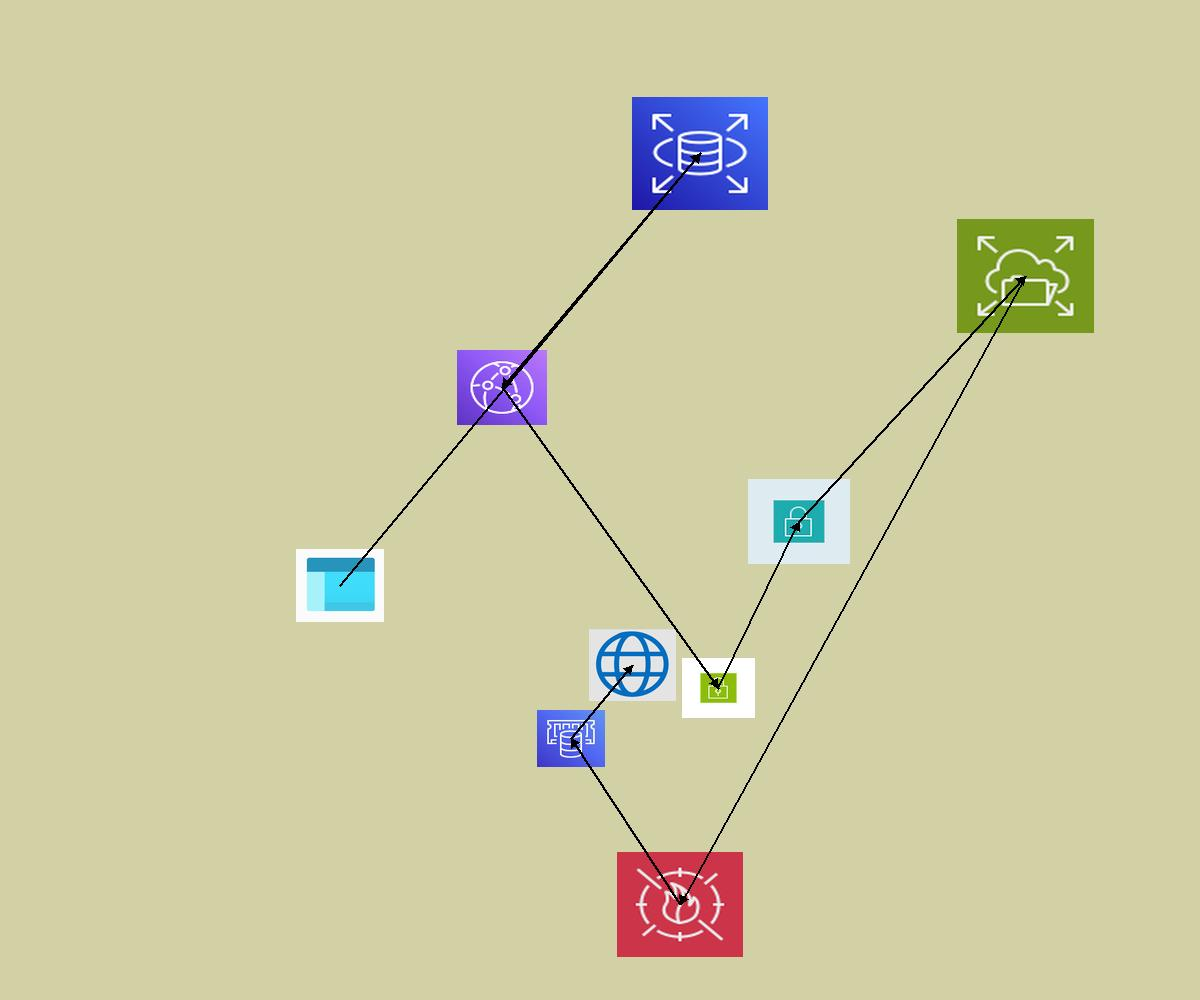AWS-CloudFront: (457, 350, 547, 425)
AWS-EFS: (957, 219, 1094, 333)
AWS-ElastiCache: (537, 710, 605, 767)
AWS-Private-subnet: (748, 479, 850, 564)
AWS-Public-subnet: (682, 658, 755, 718)
AWS-RDS: (632, 97, 768, 210)
AWS-WAF: (617, 852, 743, 957)
Azure_http: (589, 629, 676, 701)
Azure_management-portal: (296, 549, 384, 622)
